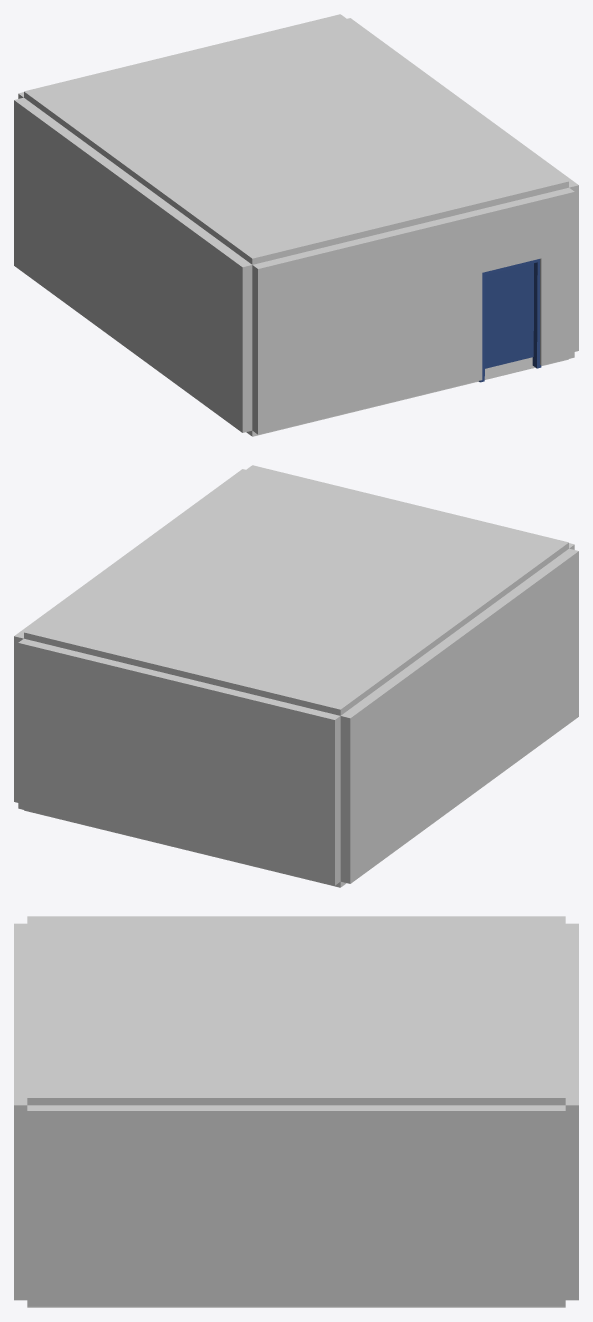
File: 物理实验室 1.fbx
3 views of the same model, one above another, from view 1: azimuth 30°, elevation 25°; view 2: azimuth 150°, elevation 25°; view 3: azimuth 270°, elevation 25° (orthographic). The views are drawn at different scales.
Visible parts, largest first — view 1: 天花板, 墙4, 墙1, 门, 墙2, 门框, 地板; view 2: 天花板, 墙3, 墙1, 墙2; view 3: 墙2, 天花板, 墙3, 墙4, 地板.
Part boxes in pixels (x1,y1,x2,y2): 天花板: [24, 14, 568, 264]; 墙4: [252, 187, 574, 434]; 墙1: [14, 97, 252, 432]; 门: [485, 263, 533, 368]; 墙2: [347, 18, 578, 351]; 门框: [478, 259, 541, 382]; 地板: [246, 357, 568, 436]; 天花板: [24, 465, 568, 715]; 墙3: [18, 638, 340, 885]; 墙1: [340, 548, 578, 883]; 墙2: [14, 469, 245, 802]; 墙2: [27, 1105, 565, 1306]; 天花板: [27, 916, 565, 1105]; 墙3: [565, 923, 578, 1300]; 墙4: [14, 923, 27, 1300]; 地板: [27, 1306, 565, 1307].
Size of the model in its own units: 17000 by 8600 by 21000.
